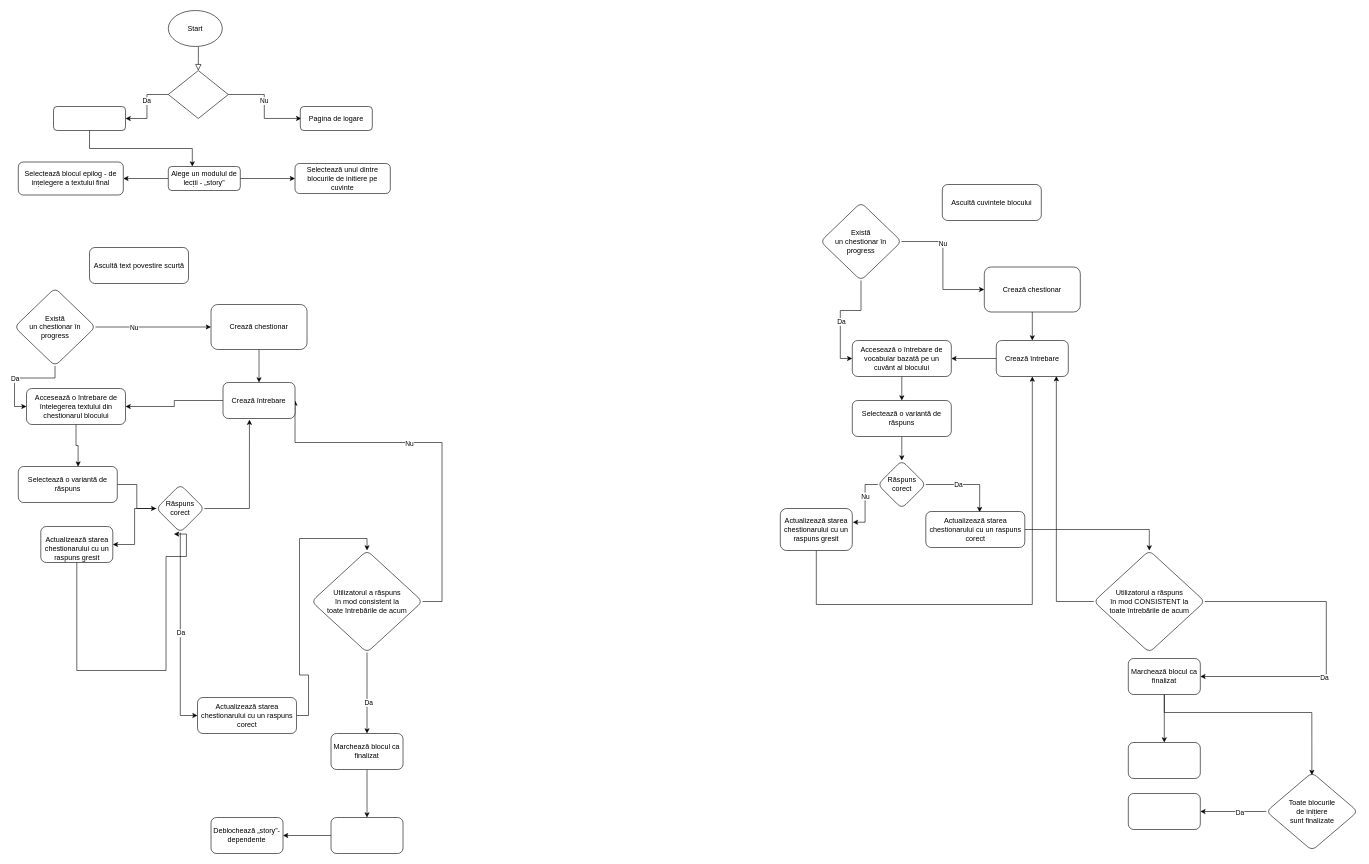
Image size: 1369x864. Some labels were removed from this diagram. Each missing label, with the box of its shape:
Alege limbă de învățat: (53, 106, 126, 130)
Deblochează blocurile de inițiere dependente: (1128, 742, 1200, 778)
Deplocheză blocul epilog: (1128, 793, 1200, 830)
Marchează „story”-ul ca finalizat: (330, 817, 403, 854)
User logat: (168, 70, 228, 118)
